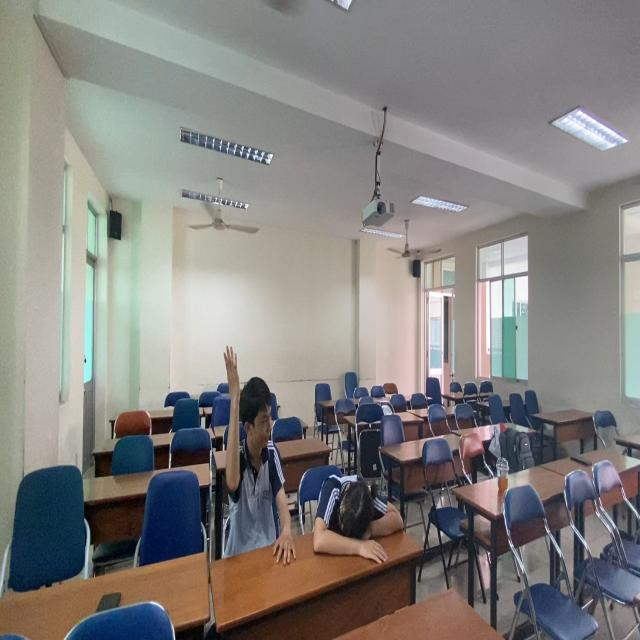raise_hand: (220, 339, 288, 551)
sleep: (311, 462, 409, 575)
